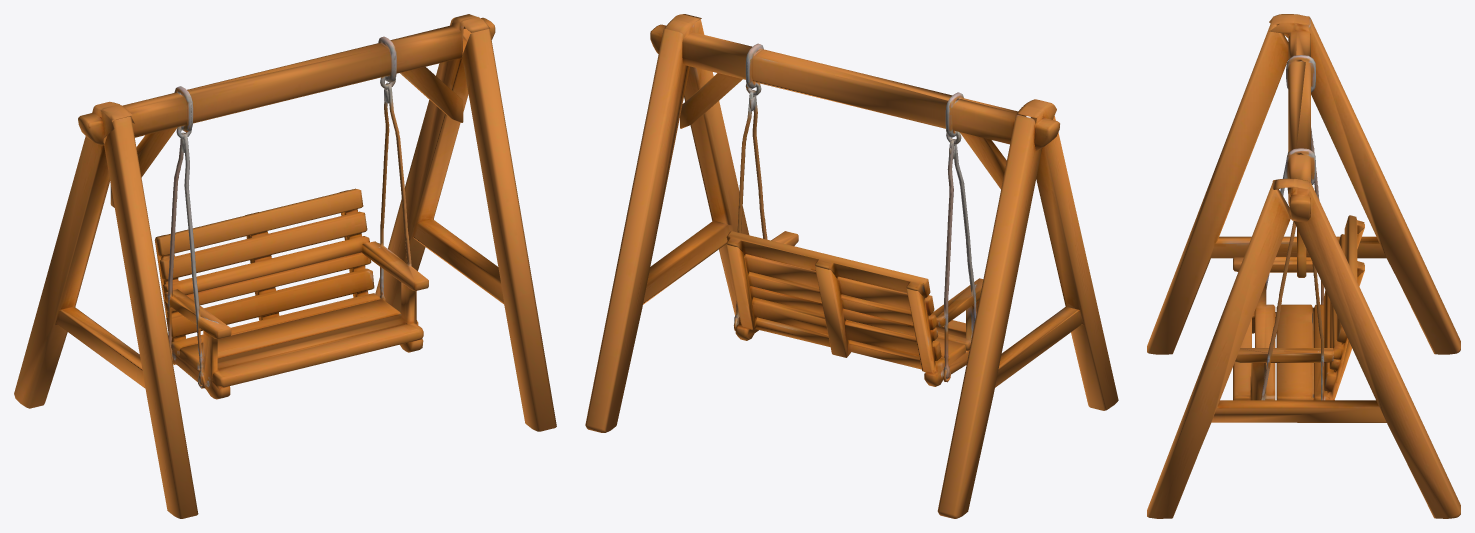
File: Outdoor__a_wooden_swing_set_ebc9b573_v4.cluster.glb
The picture shows the model from 3 angles, left to right: view 1: azimuth 30°, elevation 25°; view 2: azimuth 150°, elevation 25°; view 3: azimuth 270°, elevation 25°; orthographic projection. The views are drawn at different scales.
Parts seen in each view (by area): view 1: material; view 2: material; view 3: material.
Part boxes in pixels (x1,y1,x2,y2): material: [14, 14, 556, 518]; material: [585, 14, 1118, 518]; material: [1147, 14, 1460, 518].
Size of the model in its own units: 1.9 by 1.59 by 1.35.
Materials: 1 (1 with a texture image).
